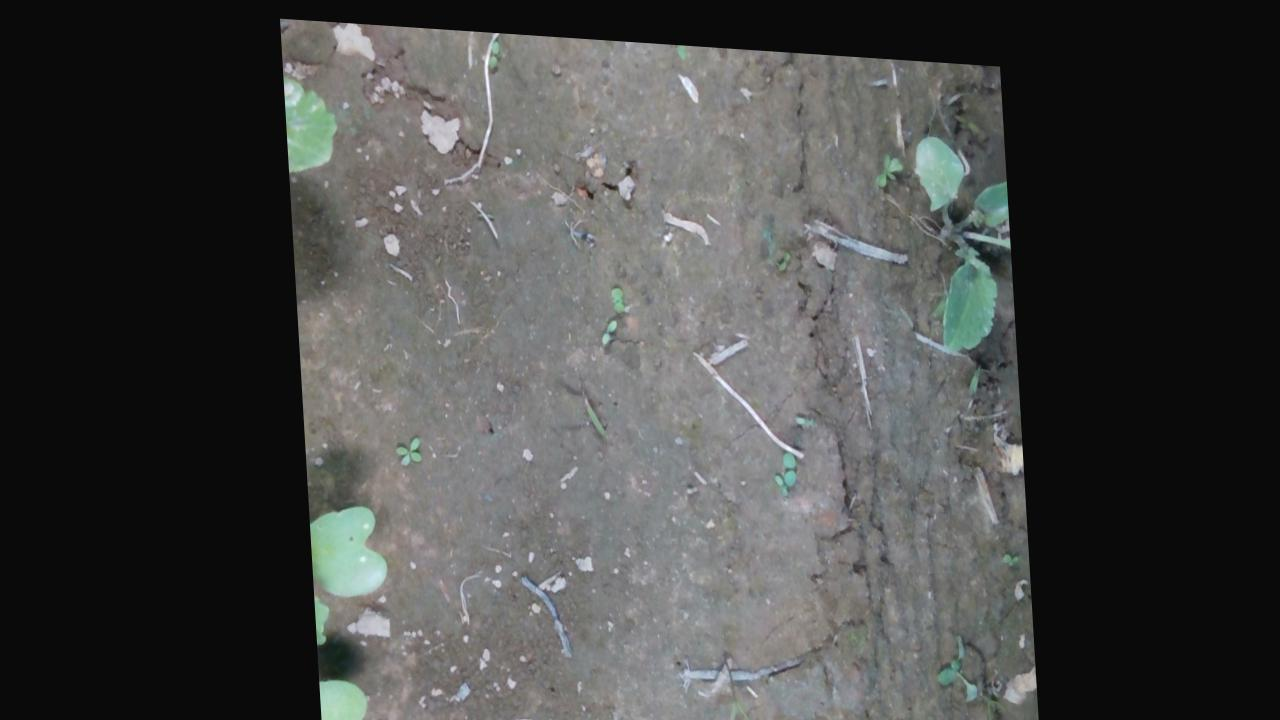weed: (871, 141, 904, 178), (387, 429, 418, 466), (594, 309, 614, 340), (604, 277, 622, 308), (485, 34, 502, 66), (668, 35, 691, 53)
